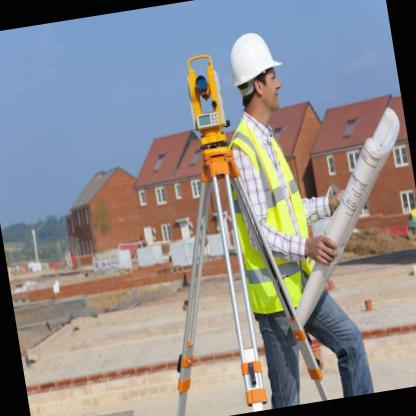capacete: (221, 27, 292, 122)
colete_refletivo: (216, 107, 326, 324)
